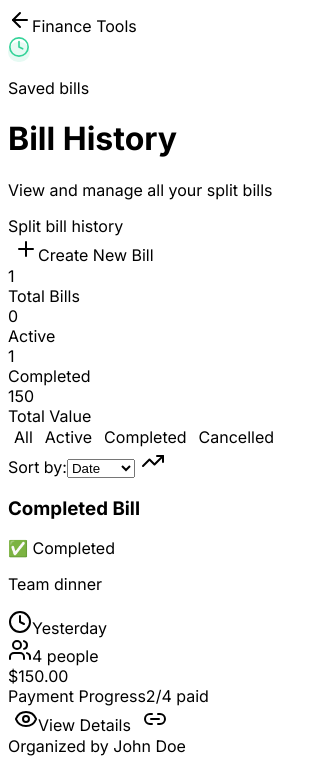
BillHistoryPage › Empty State › should show filtered empty message for active filter
This screenshot has width=320, height=773.
Expected: the heading "Completed Bill" is shown, left=8, top=497, right=140, bottom=520
Click the button "Active".
click(68, 437)  # box left=39, top=426, right=98, bottom=448
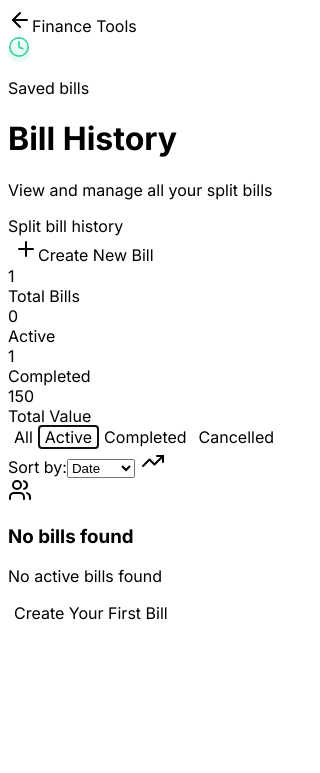
Expected: the heading "No bills found" is shown, left=8, top=525, right=134, bottom=548
Expected: the text "No active bills found" is shown, left=8, top=566, right=162, bottom=586
